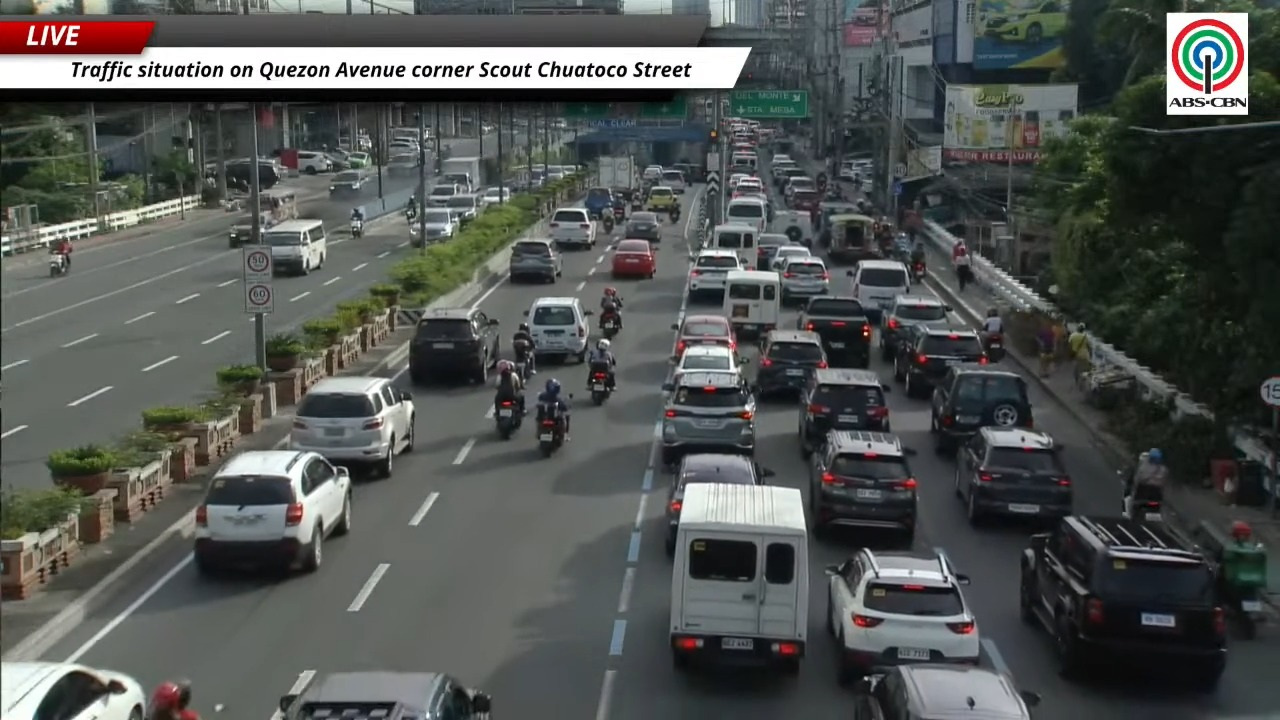car: (1019, 515, 1226, 690), (826, 549, 980, 683), (194, 450, 351, 574), (289, 376, 415, 477), (809, 430, 918, 541), (955, 427, 1072, 524), (665, 453, 773, 556), (853, 663, 1039, 719), (277, 671, 490, 719), (931, 364, 1033, 452), (661, 371, 755, 466), (0, 662, 146, 719), (831, 216, 910, 321), (798, 369, 889, 457), (408, 307, 499, 384), (893, 325, 987, 397), (796, 296, 871, 368), (752, 329, 827, 397), (879, 295, 951, 360), (524, 296, 593, 362), (982, 0, 1067, 45), (671, 314, 736, 360), (688, 249, 743, 299), (780, 256, 829, 303), (509, 239, 562, 282), (549, 207, 597, 249), (673, 344, 742, 373), (409, 208, 459, 246), (611, 239, 655, 278), (755, 233, 793, 270), (445, 194, 481, 227), (624, 211, 661, 242), (769, 244, 811, 271), (583, 187, 615, 220), (329, 170, 367, 195), (426, 183, 462, 207), (645, 185, 677, 211), (783, 176, 815, 202), (296, 151, 332, 174), (776, 165, 806, 190), (789, 188, 821, 211), (771, 159, 798, 185), (480, 186, 510, 206), (661, 170, 686, 193), (674, 163, 704, 182), (734, 177, 764, 194), (727, 173, 751, 190), (346, 152, 371, 168), (642, 165, 663, 182), (771, 154, 793, 164)
motorcycle: (1194, 523, 1267, 638), (1218, 540, 1267, 638), (1122, 484, 1162, 521), (537, 408, 564, 457), (494, 400, 522, 440), (589, 370, 611, 405), (984, 333, 1005, 362), (599, 312, 620, 339), (49, 253, 68, 276), (911, 261, 927, 283), (514, 359, 529, 382), (601, 213, 614, 234), (612, 203, 626, 222), (350, 219, 363, 238), (669, 204, 681, 224), (405, 209, 416, 224)
truck: (598, 156, 638, 195), (440, 156, 482, 193)
